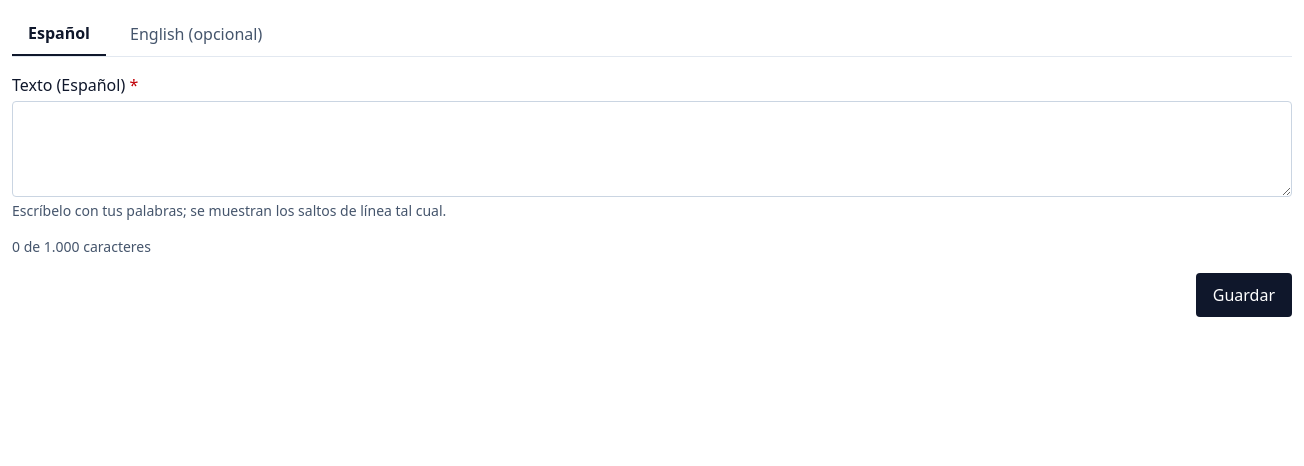
it: WhoWeAreForm · «quiénes somos» (FR-003) › crear deja la sección en borrador, avisa y guarda el inglés vacío como null (I6)
The image size is (1304, 466).
In the text box labelled "Texto (Español) *": (652, 149) [12,101,1292,197], type "Simiente Santa es una familia"
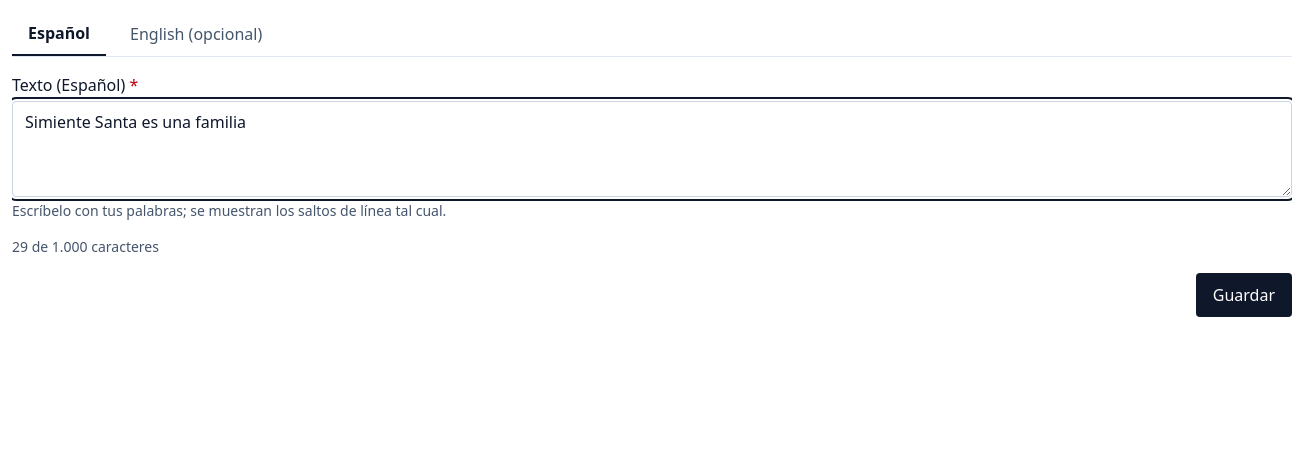
Click the button "Guardar": click(1244, 295) [1196,273,1292,317]
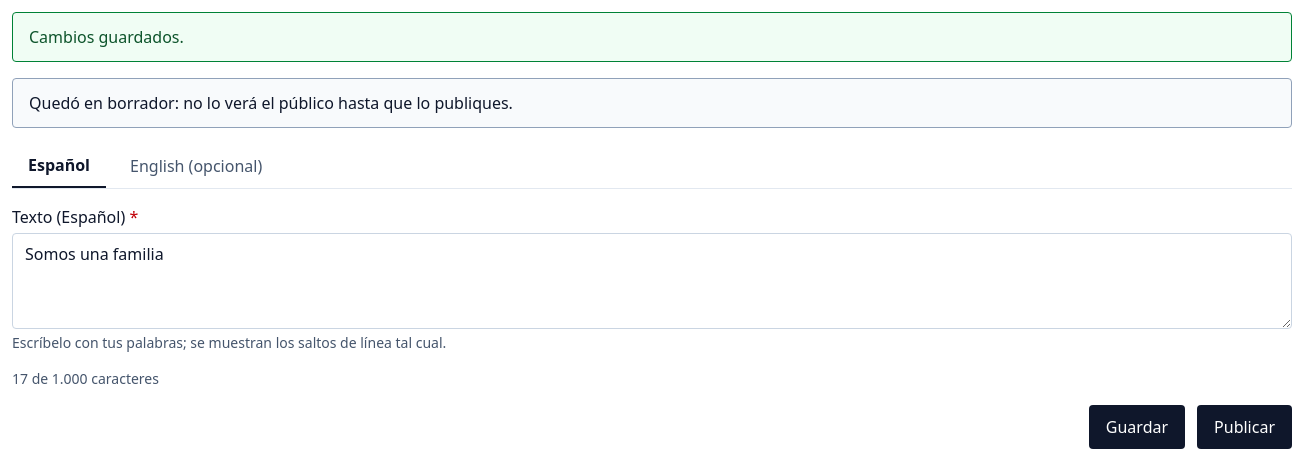
Now the text "Cambios guardados." is shown, box [12,12,1292,62]
Now the text "Quedó en borrador: no lo verá el público hasta que lo publiques." is shown, box [12,78,1292,128]
